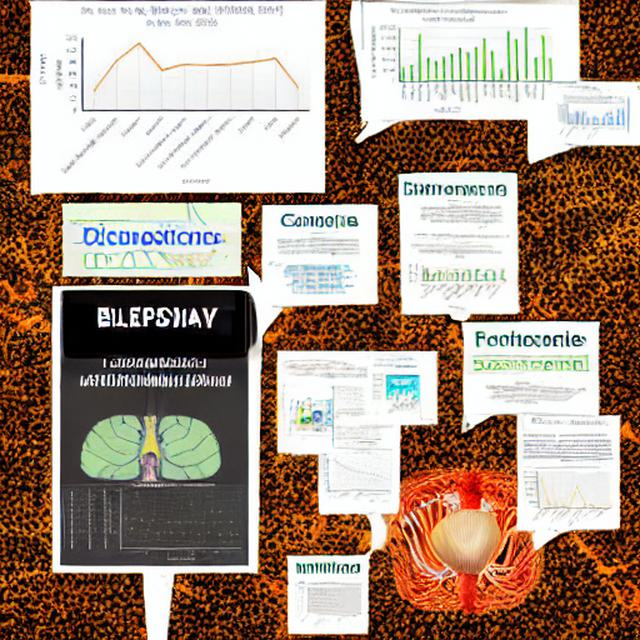Graph: (50, 1, 316, 189), (367, 5, 524, 116), (100, 482, 249, 566), (405, 247, 509, 311), (521, 464, 612, 525), (319, 445, 397, 498), (556, 98, 627, 140)
